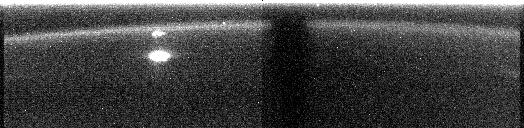positive: (149, 29, 166, 41)
